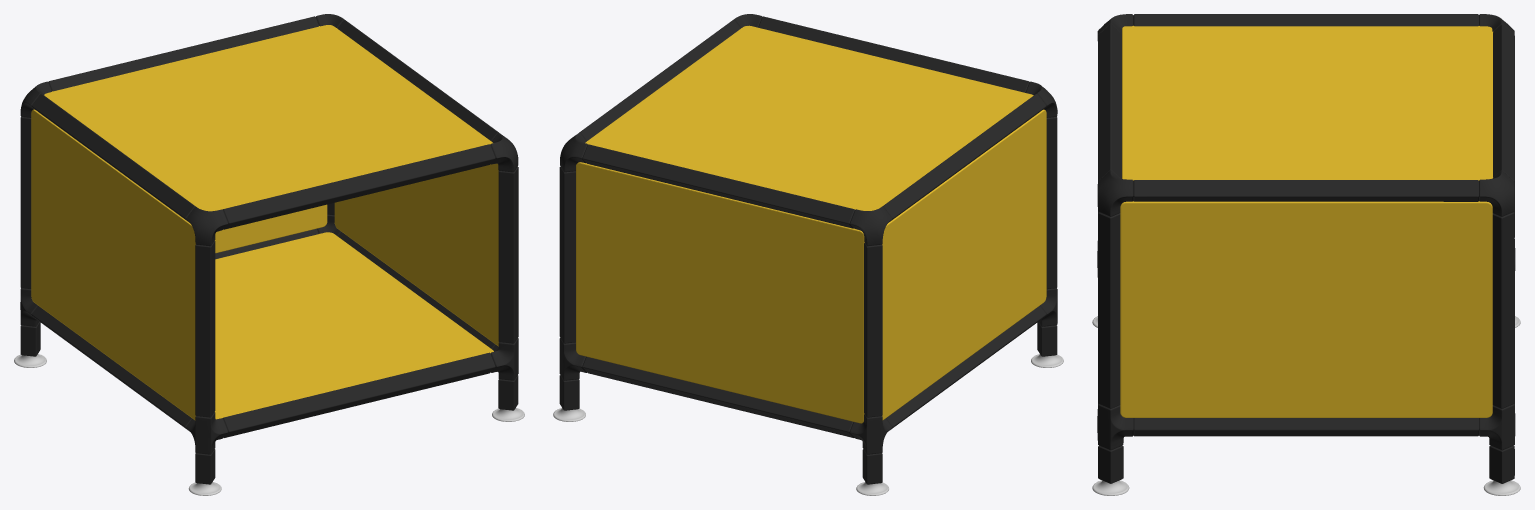
3 renders of one model, left to right at view 1: azimuth 30°, elevation 25°; view 2: azimuth 150°, elevation 25°; view 3: azimuth 270°, elevation 25°, orthographic. The views are drawn at different scales.
Visible parts, largest first — view 1: 374x374x229; view 2: 374x374x229; view 3: 374x374x229.
Boxes of the visible parts, x1,y1,x2,y2 form: 374x374x229: (14,14,524,495); 374x374x229: (553,14,1063,495); 374x374x229: (1092,14,1520,495).
Size of the model in its own units: 0.4639 by 0.3682 by 0.4632.
